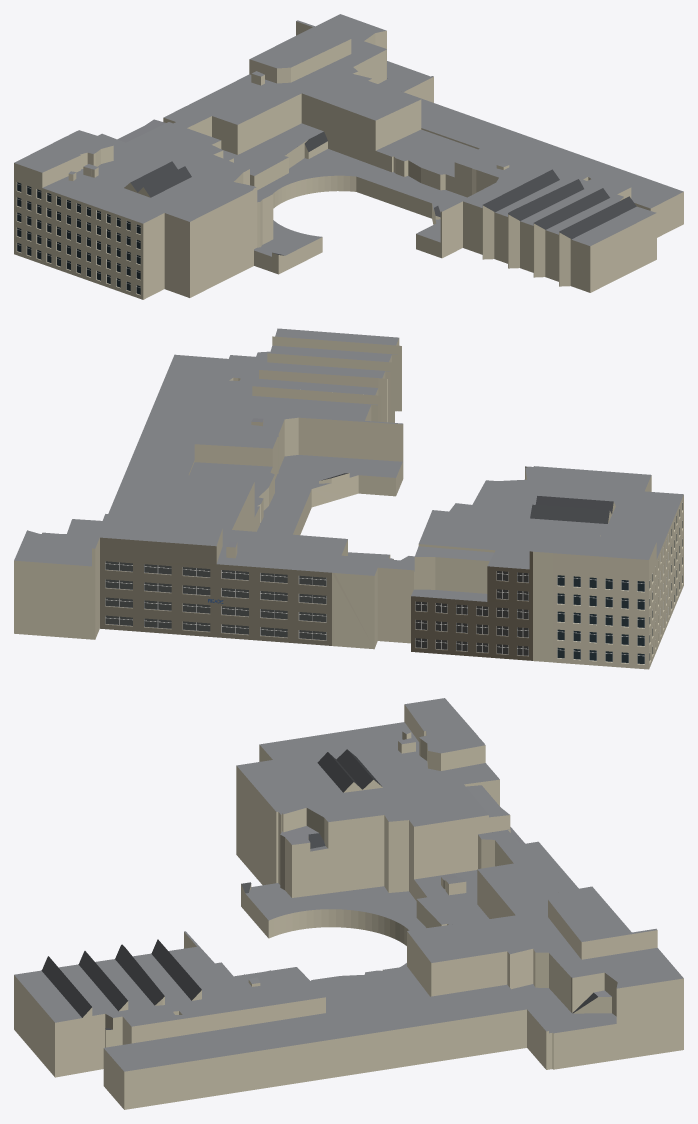
Rendered from recipe-large-overtoom-283-084999.glb.
3 renders of one model, top to bottom at view 1: azimuth 30°, elevation 25°; view 2: azimuth 150°, elevation 25°; view 3: azimuth 270°, elevation 25°, orthographic. The views are drawn at different scales.
Visible parts, largest first — view 1: overtoom-283-084999; view 2: overtoom-283-084999; view 3: overtoom-283-084999.
Part boxes in pixels (x1=…): overtoom-283-084999: x1=14, y1=14, x2=683, y2=299; overtoom-283-084999: x1=14, y1=328, x2=683, y2=669; overtoom-283-084999: x1=14, y1=698, x2=683, y2=1109.
Bounding box in the file's own units: 133 × 21.83 × 124.
